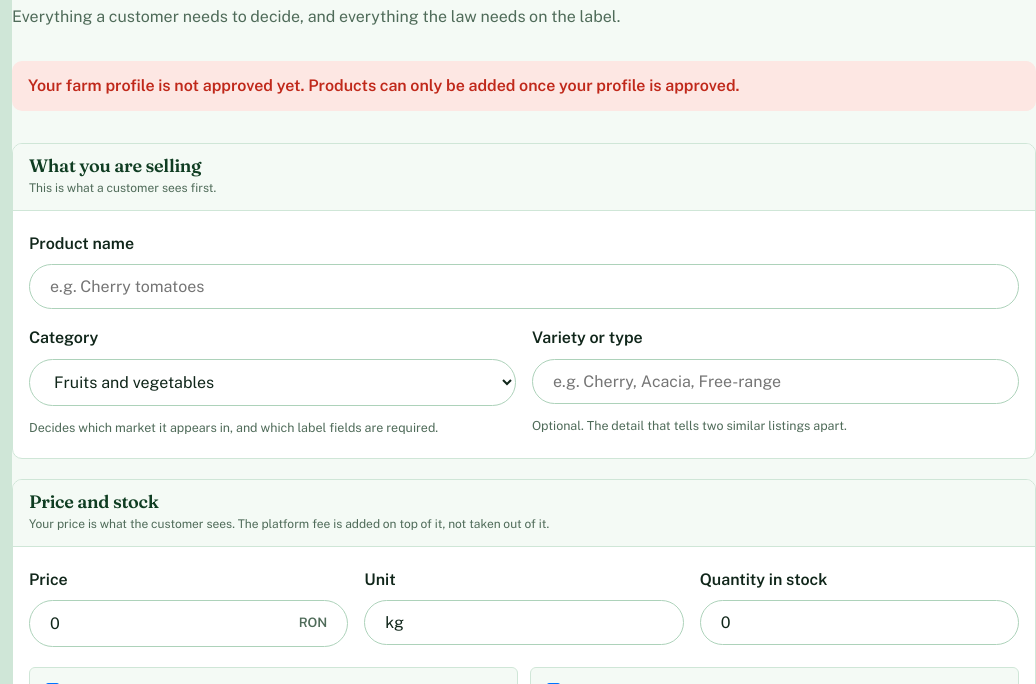
Test: VendorAddProductPage › swaps the label fields when the category changes
The width and height of the screenshot is (1036, 684).
Select "Eggs" in the dropdown labelled "Category". click: {"x": 272, "y": 382}
box: [29,359,516,406]
(page scrolled)
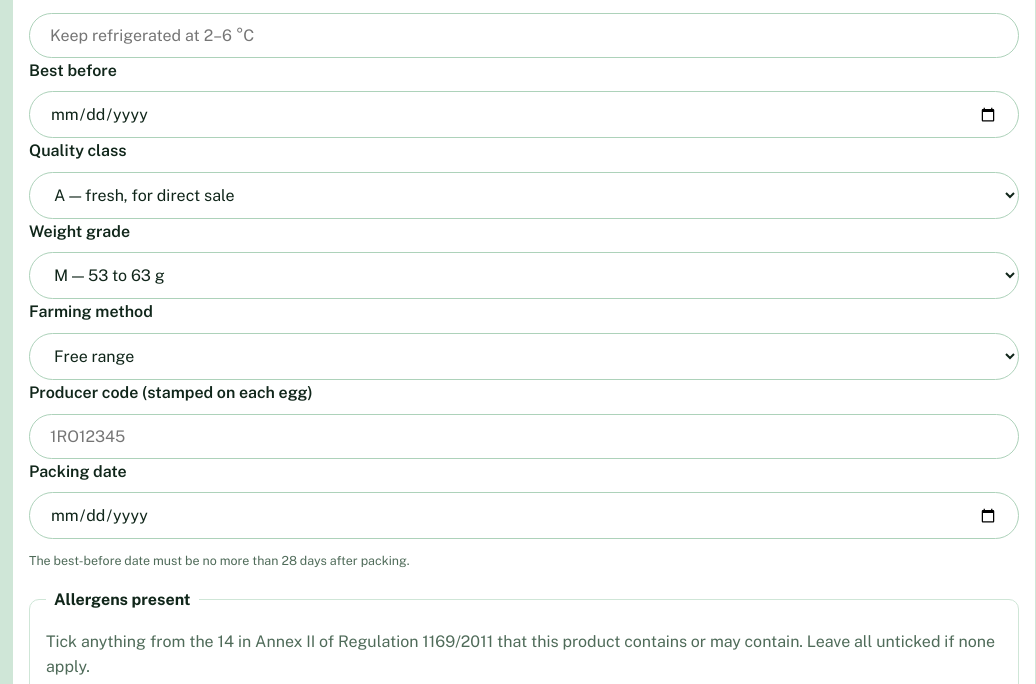
Now the text "Farming method" is shown, box [29,299,1019,380]
